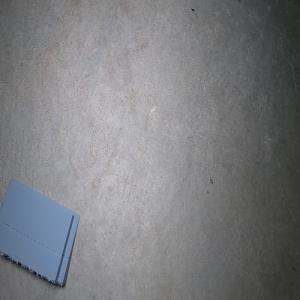PlasticPart: (0, 177, 80, 288)
